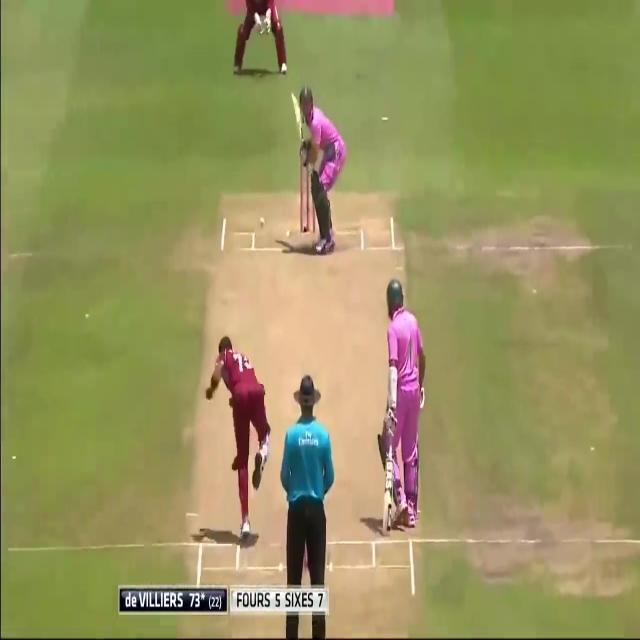Ball: (384, 282, 425, 530), (297, 86, 345, 254)
Fielder: (204, 336, 271, 539), (233, 0, 287, 74)
Umpire: (280, 380, 332, 588)
